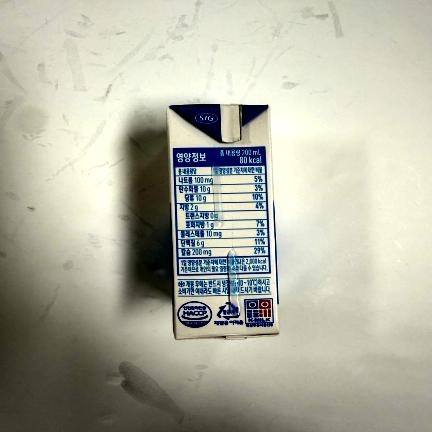milk_blue: (169, 104, 282, 340)
